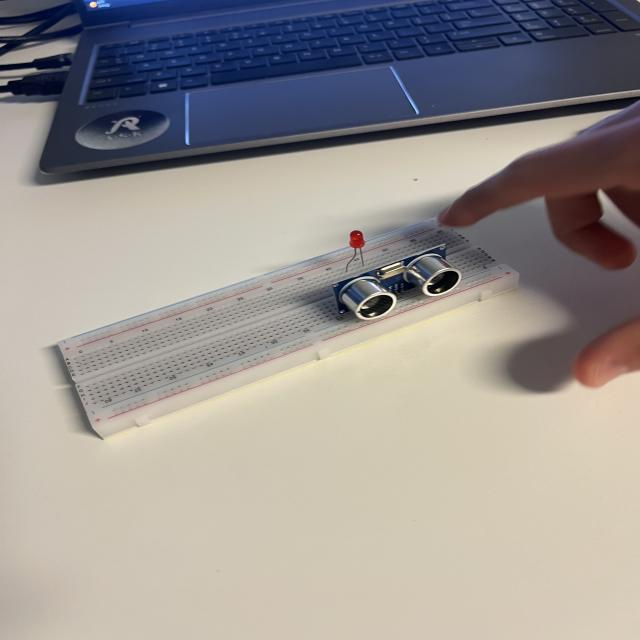BreadBoard: (61, 218, 511, 421)
REDLed: (334, 227, 377, 279)
UltrasoneSensor: (324, 233, 474, 333)
